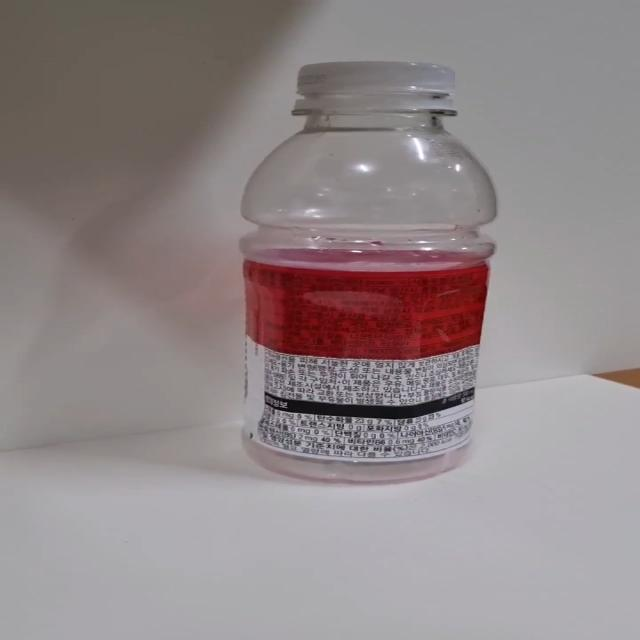Plastic: (237, 62, 499, 487)
